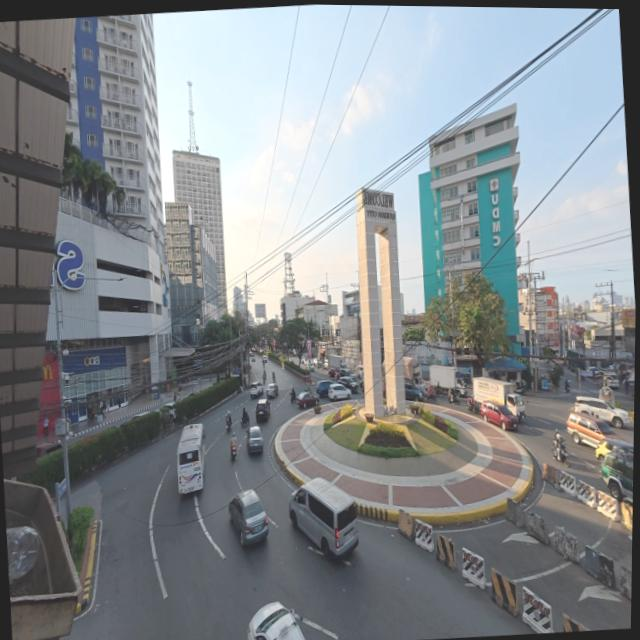bus: (176, 424, 204, 494)
car: (228, 490, 268, 545), (247, 602, 303, 639), (574, 397, 629, 428), (567, 413, 615, 447), (480, 401, 517, 431), (595, 438, 633, 464), (246, 426, 263, 454), (35, 441, 62, 458), (327, 384, 350, 401), (315, 378, 334, 398), (404, 381, 422, 402), (296, 392, 318, 408), (338, 375, 357, 393), (255, 399, 269, 422), (158, 403, 175, 420), (129, 410, 150, 421), (249, 382, 262, 397), (265, 384, 277, 398), (412, 377, 424, 390), (342, 369, 355, 380), (587, 367, 599, 378), (328, 367, 340, 378), (356, 365, 363, 380), (339, 363, 347, 375), (307, 362, 315, 371), (312, 357, 319, 366), (381, 382, 385, 397), (323, 360, 328, 370), (299, 359, 305, 367), (262, 355, 267, 363), (292, 349, 297, 356), (251, 356, 255, 362)
motorcycle: (551, 441, 569, 467), (467, 398, 479, 414), (423, 389, 436, 402), (448, 394, 459, 405), (240, 417, 248, 427), (230, 445, 235, 460), (225, 419, 230, 431), (564, 382, 569, 394), (289, 392, 295, 402), (271, 373, 274, 383)
trucks: (472, 377, 524, 420), (429, 364, 469, 397), (403, 356, 424, 390)
vans: (288, 478, 357, 555), (601, 451, 632, 503), (603, 373, 618, 389)
